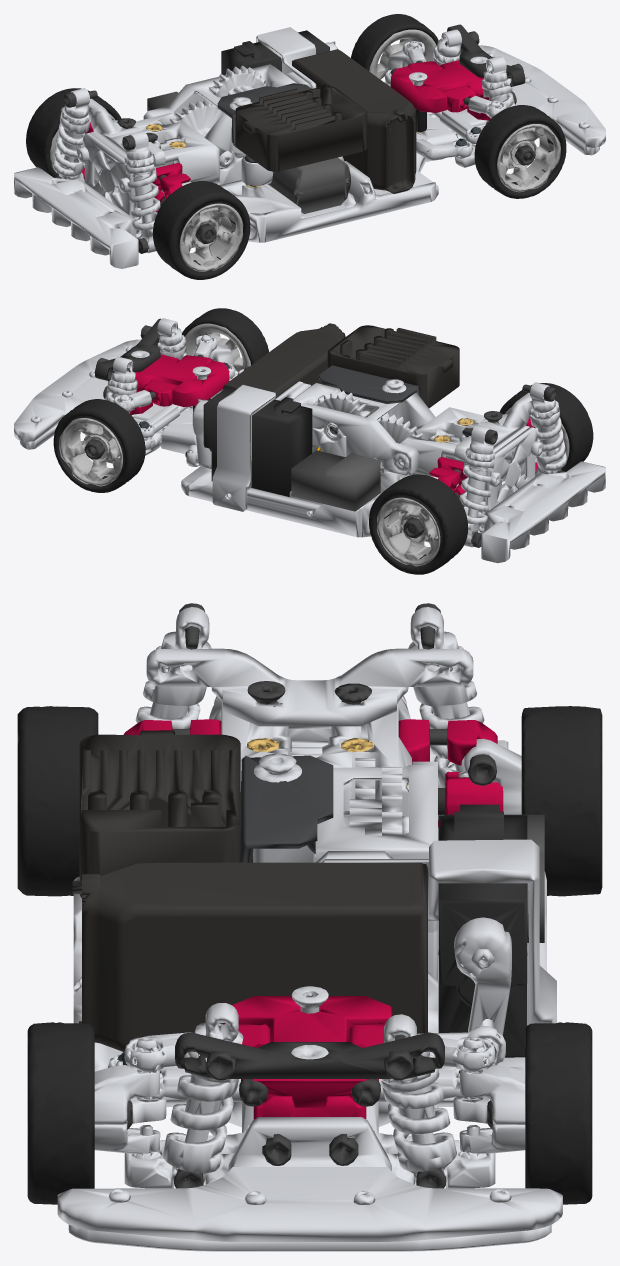
File: microd_80k.glb
3 renders of one model, top to bottom at view 1: azimuth 30°, elevation 25°; view 2: azimuth 150°, elevation 25°; view 3: azimuth 270°, elevation 25°, orthographic. The views are drawn at different scales.
Visible parts, largest first — view 1: ESC Quickrun 1625, LIPO 7.4V 2S 600mAh (1), part10, part6, New Flat Drift tires 28x12x22 ID Thread v4, part8, New Flat Drift tires 27x10x22 ID Thread v3 (1), part21, SOLID, C2 Rim 22x12 O +1 v17, C2 Rim 22x10 O+0.5 v14 (1), Top Front Structure (+27 smaller); view 2: ESC Quickrun 1625, part6, Component744, part10, part205, part2, New Flat Drift tires 28x12x22 ID Thread v1, Receiver, LIPO 7.4V 2S 600mAh (1), part8, New Flat Drift tires 27x10x22 ID Thread v3, C2 Rim 22x12 O +1 v16 (+25 smaller); view 3: LIPO 7.4V 2S 600mAh (1), part8, ESC Quickrun 1625, part12, New Flat Drift tires 28x12x22 ID Thread v1, New Flat Drift tires 28x12x22 ID Thread v4, Component744, New Flat Drift tires 27x10x22 ID Thread v3 (1), New Flat Drift tires 27x10x22 ID Thread v3, part7, part2, Sus Arm Front (+28 smaller).
Boxes of the visible parts, left/top/right/bottom form: ESC Quickrun 1625: left=235, top=84, right=367, bottom=171; LIPO 7.4V 2S 600mAh (1): left=292, top=49, right=416, bottom=193; part10: left=136, top=72, right=487, bottom=242; part6: left=14, top=167, right=138, bottom=268; New Flat Drift tires 28x12x22 ID Thread v4: left=153, top=181, right=250, bottom=279; part8: left=479, top=45, right=605, bottom=147; New Flat Drift tires 27x10x22 ID Thread v3 (1): left=474, top=105, right=566, bottom=198; part21: left=90, top=113, right=219, bottom=207; SOLID: left=268, top=157, right=350, bottom=213; C2 Rim 22x12 O +1 v17: left=179, top=203, right=243, bottom=271; C2 Rim 22x10 O+0.5 v14 (1): left=497, top=124, right=560, bottom=192; Top Front Structure: left=390, top=60, right=483, bottom=112; ESC Quickrun 1625: left=327, top=325, right=459, bottom=408; part6: left=481, top=461, right=605, bottom=563; Component744: left=203, top=388, right=312, bottom=496; part10: left=131, top=383, right=483, bottom=537; part205: left=293, top=383, right=434, bottom=476; part2: left=212, top=381, right=303, bottom=511; New Flat Drift tires 28x12x22 ID Thread v1: left=369, top=474, right=467, bottom=574; Receiver: left=291, top=450, right=380, bottom=511; LIPO 7.4V 2S 600mAh (1): left=223, top=323, right=345, bottom=398; part8: left=14, top=339, right=140, bottom=441; New Flat Drift tires 27x10x22 ID Thread v3: left=53, top=399, right=145, bottom=492; C2 Rim 22x12 O +1 v16: left=377, top=497, right=440, bottom=566; LIPO 7.4V 2S 600mAh (1): left=72, top=862, right=427, bottom=1051; part8: left=57, top=1167, right=562, bottom=1241; ESC Quickrun 1625: left=79, top=730, right=240, bottom=897; part12: left=146, top=648, right=473, bottom=726; New Flat Drift tires 28x12x22 ID Thread v1: left=521, top=706, right=602, bottom=896; New Flat Drift tires 28x12x22 ID Thread v4: left=17, top=706, right=98, bottom=896; Component744: left=438, top=804, right=527, bottom=1057; New Flat Drift tires 27x10x22 ID Thread v3 (1): left=27, top=1022, right=94, bottom=1204; New Flat Drift tires 27x10x22 ID Thread v3: left=525, top=1022, right=592, bottom=1204; part7: left=68, top=1117, right=551, bottom=1251; part2: left=322, top=839, right=556, bottom=1023; Sus Arm Front: left=175, top=1032, right=444, bottom=1078.
Bounding box in the file's own units: 0.1719 × 0.0404 × 0.0871.
